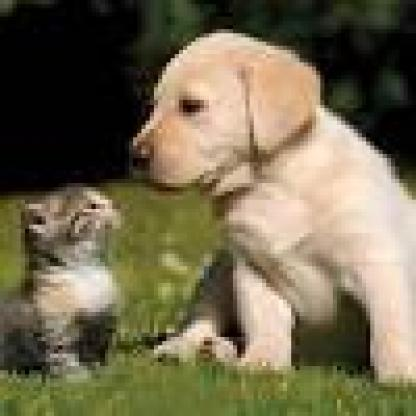dog: (121, 6, 377, 250)
